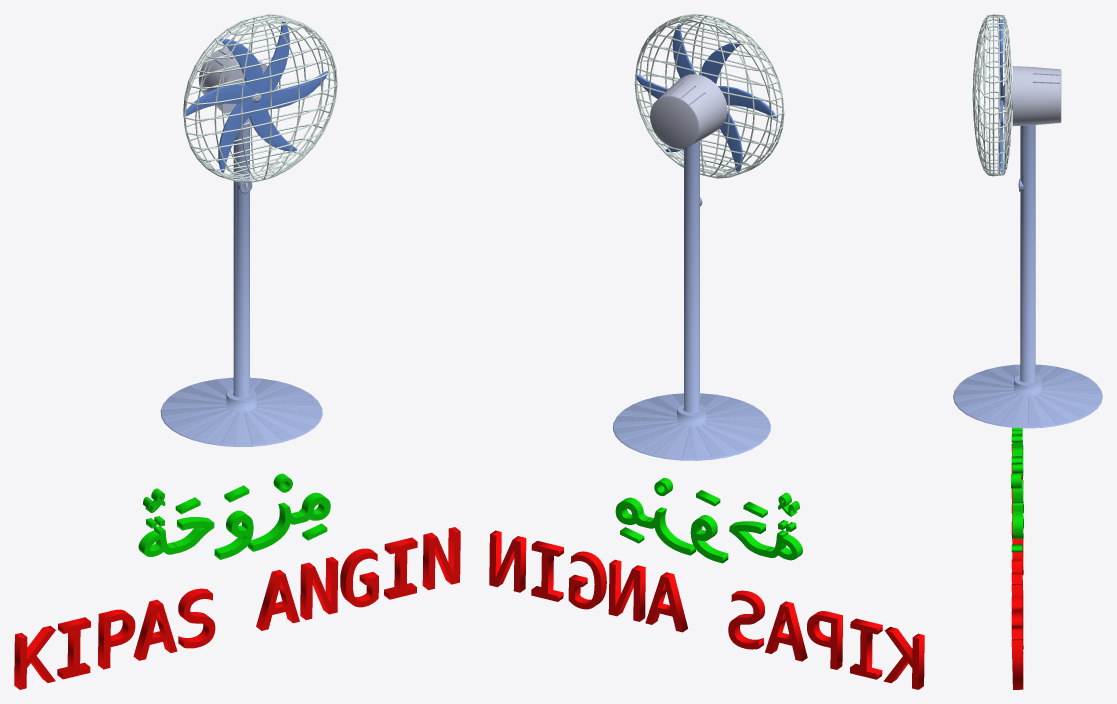
Rendered from Fan.fbx.
The picture shows the model from 3 angles, left to right: view 1: azimuth 30°, elevation 25°; view 2: azimuth 150°, elevation 25°; view 3: azimuth 270°, elevation 25°; orthographic projection. The views are drawn at different scales.
Visible parts, largest first — view 1: Teks.006, Body, Cage, Heli, Teks, Rotor; view 2: Teks.006, Body, Cage, Teks, Rotor, Heli; view 3: Body, Cage, Rotor, Teks.006, Teks, Heli.
Boxes of the visible parts, x1,y1,x2,y2 form: Teks.006: [14, 527, 460, 689]; Body: [160, 123, 322, 446]; Cage: [183, 14, 337, 182]; Heli: [183, 21, 328, 172]; Teks: [138, 492, 330, 559]; Rotor: [198, 47, 277, 123]; Teks.006: [489, 530, 924, 689]; Body: [613, 141, 770, 460]; Cage: [634, 14, 784, 178]; Teks: [615, 497, 802, 563]; Rotor: [650, 74, 727, 148]; Heli: [635, 24, 776, 172]; Body: [953, 125, 1102, 428]; Cage: [972, 14, 1011, 176]; Rotor: [998, 66, 1061, 126]; Teks.006: [1011, 444, 1023, 689]; Teks: [1012, 427, 1023, 538]; Heli: [1000, 19, 1003, 172].
Bounding box in the file's own units: 895 × 1207 × 286.
